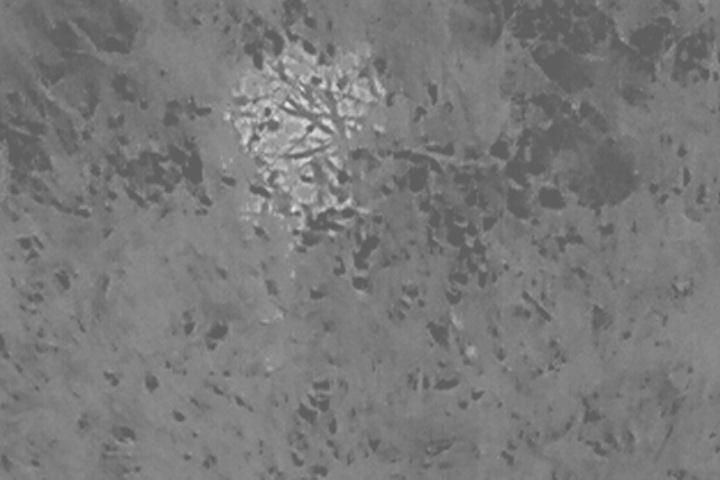landmine: (229, 37, 385, 230)
